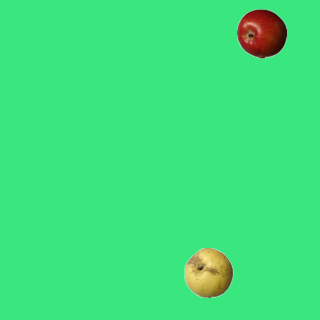Apple Braeburn: (236, 8, 286, 58)
Apple Golden 1: (183, 247, 233, 297)
